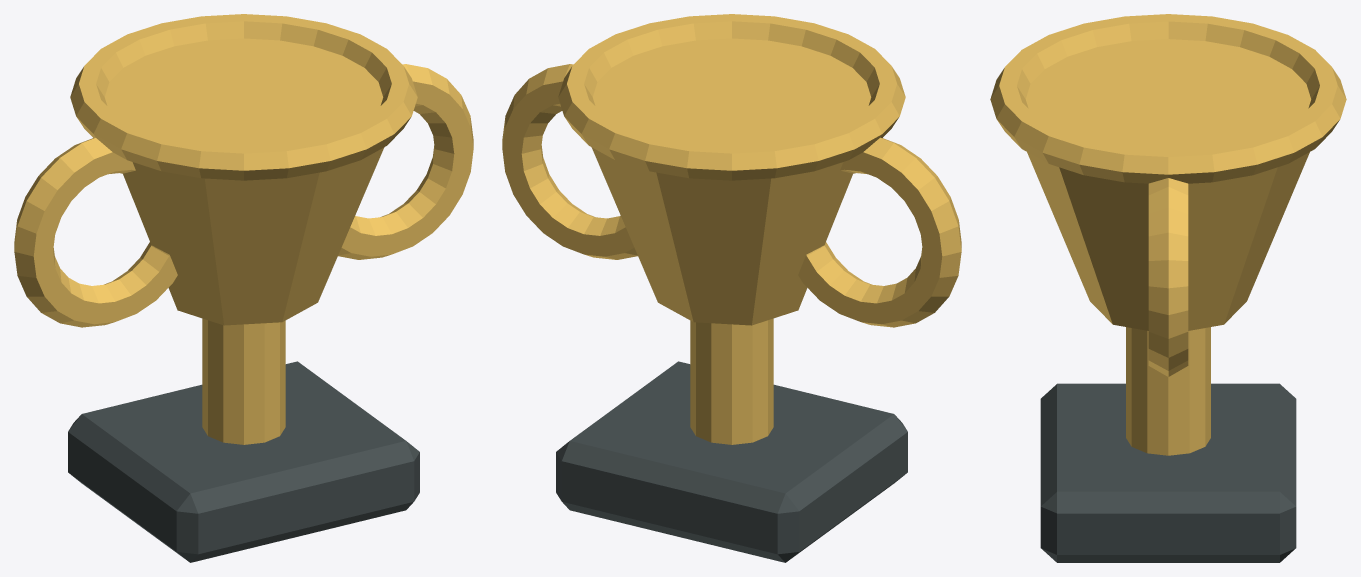
The model's file is acc_championcup.glb.
3 renders of one model, left to right at view 1: azimuth 30°, elevation 25°; view 2: azimuth 150°, elevation 25°; view 3: azimuth 270°, elevation 25°, orthographic. The views are drawn at different scales.
Parts seen in each view (by area): view 1: acc_championcup_TrophyGold.003, acc_championcup_RunningGear.008; view 2: acc_championcup_TrophyGold.003, acc_championcup_RunningGear.008; view 3: acc_championcup_TrophyGold.003, acc_championcup_RunningGear.008.
Boxes of the visible parts, x1=… form: acc_championcup_TrophyGold.003: x1=14, y1=14, x2=473, y2=444; acc_championcup_RunningGear.008: x1=68, y1=361, x2=419, y2=562; acc_championcup_TrophyGold.003: x1=502, y1=14, x2=961, y2=444; acc_championcup_RunningGear.008: x1=556, y1=361, x2=907, y2=562; acc_championcup_TrophyGold.003: x1=990, y1=14, x2=1346, y2=455; acc_championcup_RunningGear.008: x1=1040, y1=383, x2=1296, y2=562.
Size of the model in its own units: 0.83 by 0.7134 by 0.544.
